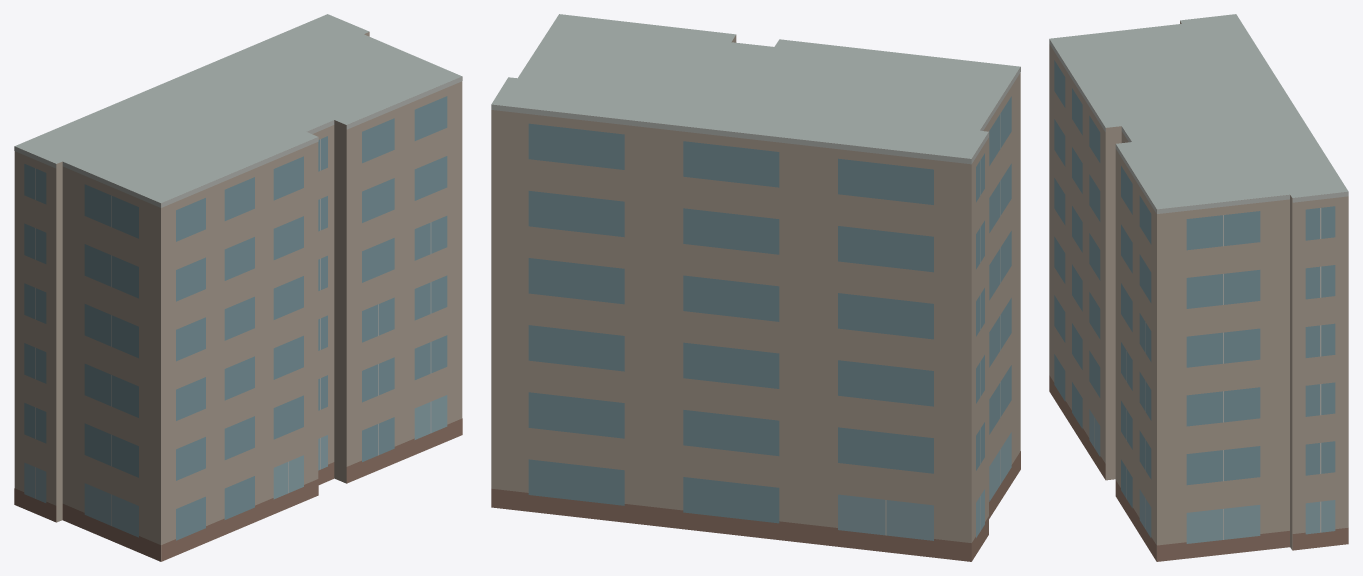
Rendered from survey-upis-32656448.glb.
3 renders of one model, left to right at view 1: azimuth 30°, elevation 25°; view 2: azimuth 150°, elevation 25°; view 3: azimuth 270°, elevation 25°, orthographic. The views are drawn at different scales.
Visible parts, largest first — view 1: survey-upis-32656448.tmp; view 2: survey-upis-32656448.tmp; view 3: survey-upis-32656448.tmp.
Part boxes in pixels (x1,y1,x2,y2): survey-upis-32656448.tmp: (14, 14, 462, 561); survey-upis-32656448.tmp: (491, 14, 1020, 561); survey-upis-32656448.tmp: (1049, 14, 1348, 561).
Size of the model in its own units: 21.77 by 18.3 by 14.1.
